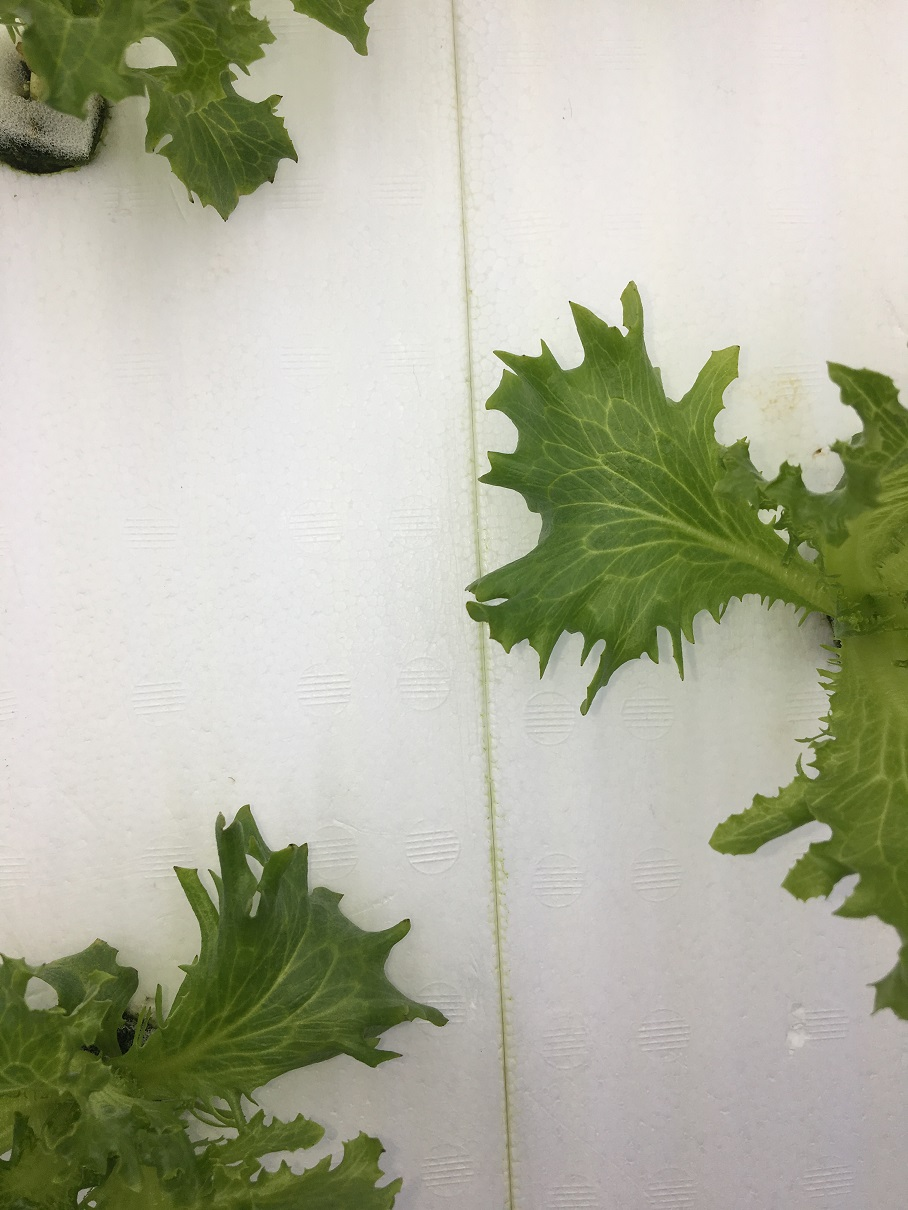tipburn: (167, 858, 206, 893), (291, 145, 318, 170), (259, 83, 287, 105), (183, 195, 203, 216), (397, 910, 418, 930), (282, 835, 301, 854), (268, 173, 286, 193), (559, 292, 576, 311)
